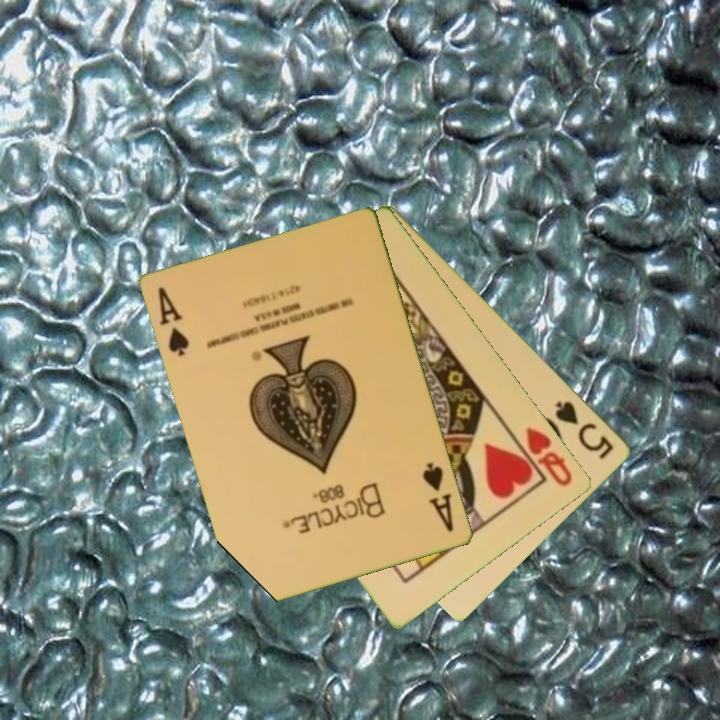5s: (552, 397, 617, 463)
As: (419, 459, 457, 536), (155, 284, 193, 360)
Qh: (510, 423, 576, 489)
